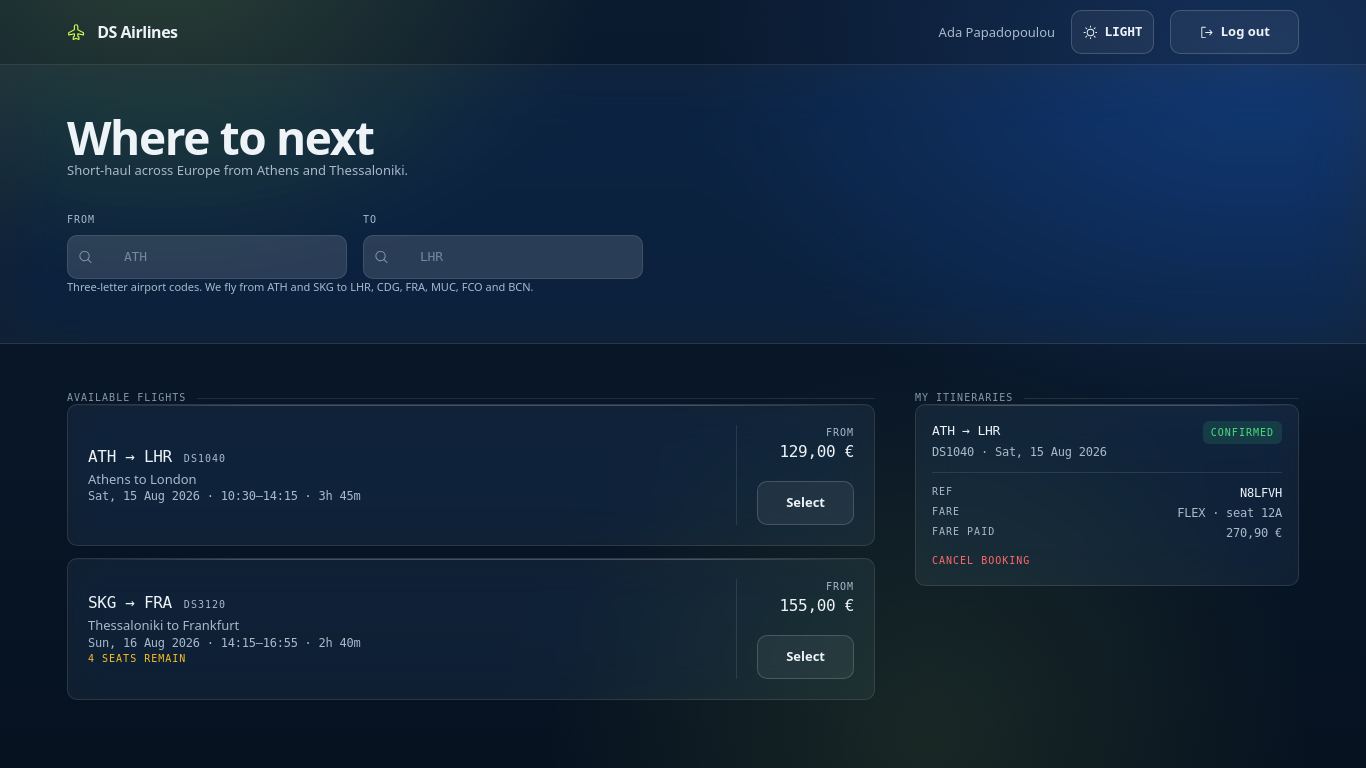
Test: Dashboard › cancellation › cancels after confirmation and reports it
Expected: the heading "Where to next" is shown, [67, 106, 374, 168]
Click the button "Cancel booking". click: x=981, y=560
box: [932, 553, 1030, 568]
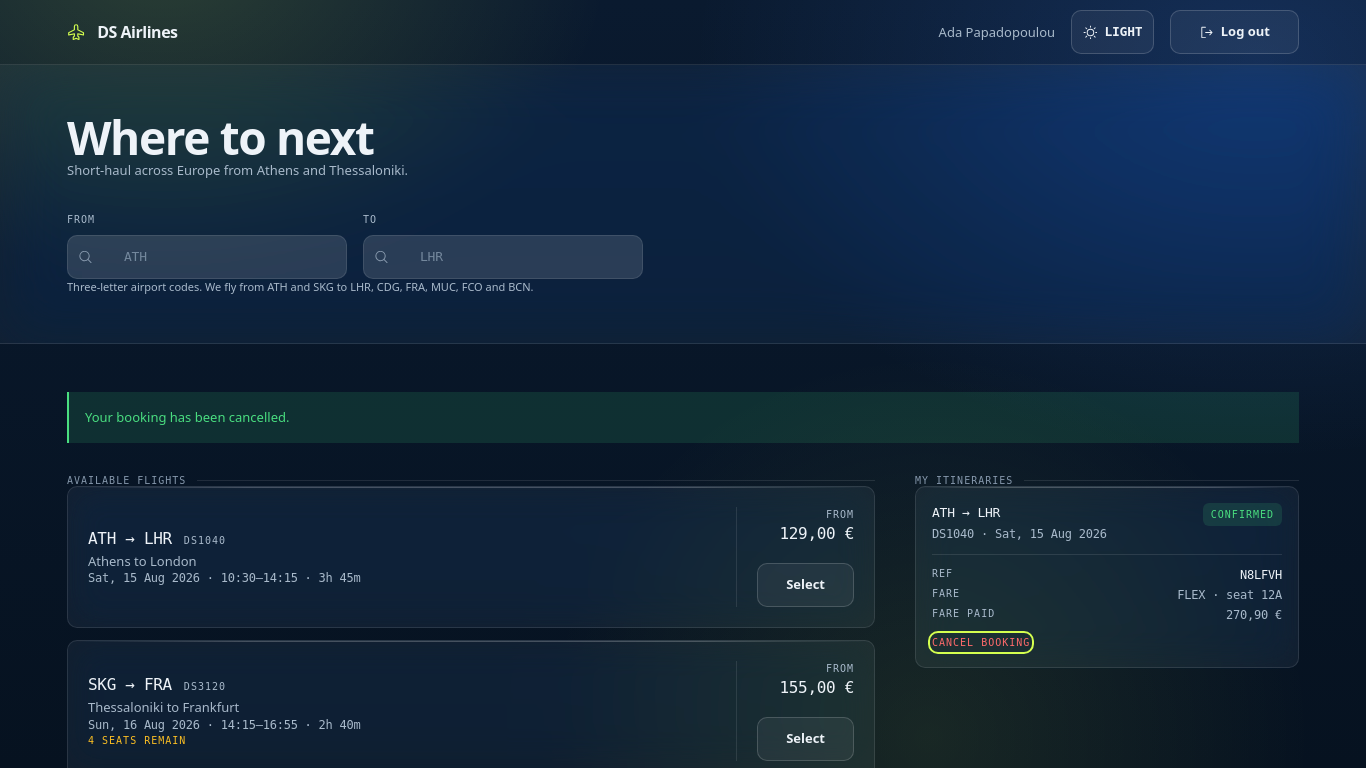
Now the message shows "has been cancelled", box [85, 408, 290, 426]
